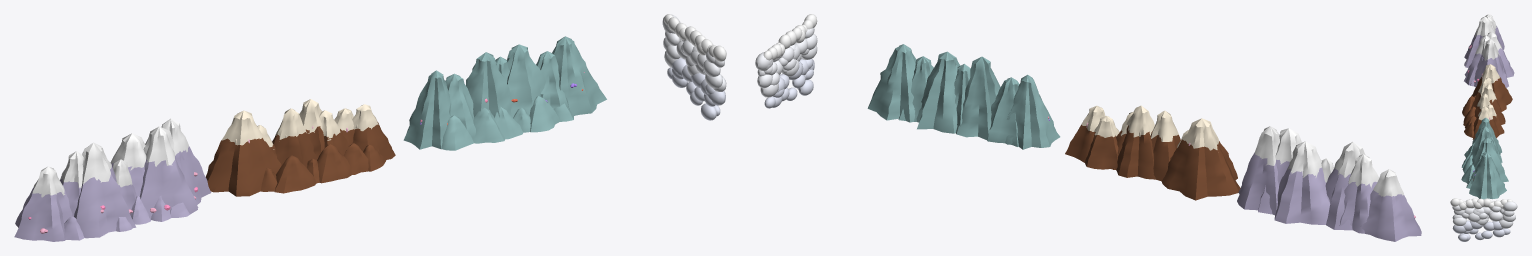
The model's file is Horizon_v2.fbx.
3 views of the same model, side by side, from view 1: azimuth 30°, elevation 25°; view 2: azimuth 150°, elevation 25°; view 3: azimuth 270°, elevation 25° (orthographic). The views are drawn at different scales.
Parts seen in each view (by area): view 1: ReefRangeV2__Rock__8FB8B8SP, SakuraRangeV2__Rock__B7AECFSP, CandyRangeV2__Rock__7A4A2ESP, SakuraRangeV2__Snow__FFFFFFSP, CandyRangeV2__Snow__FFF3DCSP, CloudCurtain__Puff__F7F9FFSP, CloudCurtain__PuffLow__E7EBFASP, CloudCurtain__Puff__FFFFFFSP; view 2: ReefRangeV2__Rock__8FB8B8SP, SakuraRangeV2__Rock__B7AECFSP, CandyRangeV2__Rock__7A4A2ESP, SakuraRangeV2__Snow__FFFFFFSP, CandyRangeV2__Snow__FFF3DCSP, CloudCurtain__Puff__F7F9FFSP, CloudCurtain__PuffLow__E7EBFASP, CloudCurtain__Puff__FFFFFFSP; view 3: ReefRangeV2__Rock__8FB8B8SP, CandyRangeV2__Rock__7A4A2ESP, SakuraRangeV2__Rock__B7AECFSP, CloudCurtain__Puff__F7F9FFSP, SakuraRangeV2__Snow__FFFFFFSP, CandyRangeV2__Snow__FFF3DCSP, CloudCurtain__PuffLow__E7EBFASP, CloudCurtain__Puff__FFFFFFSP.
Part boxes in pixels (x1,y1,x2,y2): ReefRangeV2__Rock__8FB8B8SP: (403,36,606,150); SakuraRangeV2__Rock__B7AECFSP: (14,146,211,241); CandyRangeV2__Rock__7A4A2ESP: (206,122,395,196); SakuraRangeV2__Snow__FFFFFFSP: (32,118,188,197); CandyRangeV2__Snow__FFF3DCSP: (222,99,378,149); CloudCurtain__Puff__F7F9FFSP: (662,14,726,91); CloudCurtain__PuffLow__E7EBFASP: (667,58,725,120); CloudCurtain__Puff__FFFFFFSP: (664,14,726,61); ReefRangeV2__Rock__8FB8B8SP: (867,44,1060,149); SakuraRangeV2__Rock__B7AECFSP: (1237,153,1421,241); CandyRangeV2__Rock__7A4A2ESP: (1065,124,1240,200); SakuraRangeV2__Snow__FFFFFFSP: (1254,126,1403,196); CandyRangeV2__Snow__FFF3DCSP: (1081,105,1219,150); CloudCurtain__Puff__F7F9FFSP: (755,28,817,97); CloudCurtain__PuffLow__E7EBFASP: (764,59,814,108); CloudCurtain__Puff__FFFFFFSP: (763,14,817,60); ReefRangeV2__Rock__8FB8B8SP: (1461,117,1508,199); CandyRangeV2__Rock__7A4A2ESP: (1462,77,1512,139); SakuraRangeV2__Rock__B7AECFSP: (1464,26,1514,87); CloudCurtain__Puff__F7F9FFSP: (1452,201,1517,228); SakuraRangeV2__Snow__FFFFFFSP: (1475,14,1502,60); CandyRangeV2__Snow__FFF3DCSP: (1477,64,1499,120); CloudCurtain__PuffLow__E7EBFASP: (1452,220,1510,241); CloudCurtain__Puff__FFFFFFSP: (1450,198,1512,210).
Bounding box in the file's own units: 2850 × 436 × 431.
